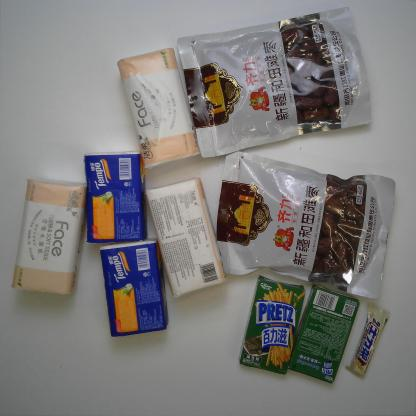Chocolate: (344, 302, 392, 382)
Dessert: (288, 284, 362, 386), (238, 274, 306, 376)
Dried Food: (176, 4, 374, 160), (215, 150, 396, 300)
Tissue: (115, 46, 202, 172), (145, 176, 230, 299), (11, 176, 88, 296), (99, 236, 170, 338), (83, 150, 149, 245)
